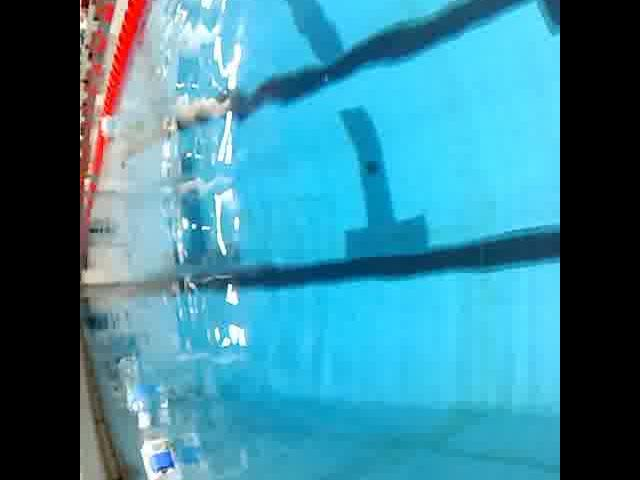Bottle: (136, 423, 198, 480), (118, 352, 154, 430)
